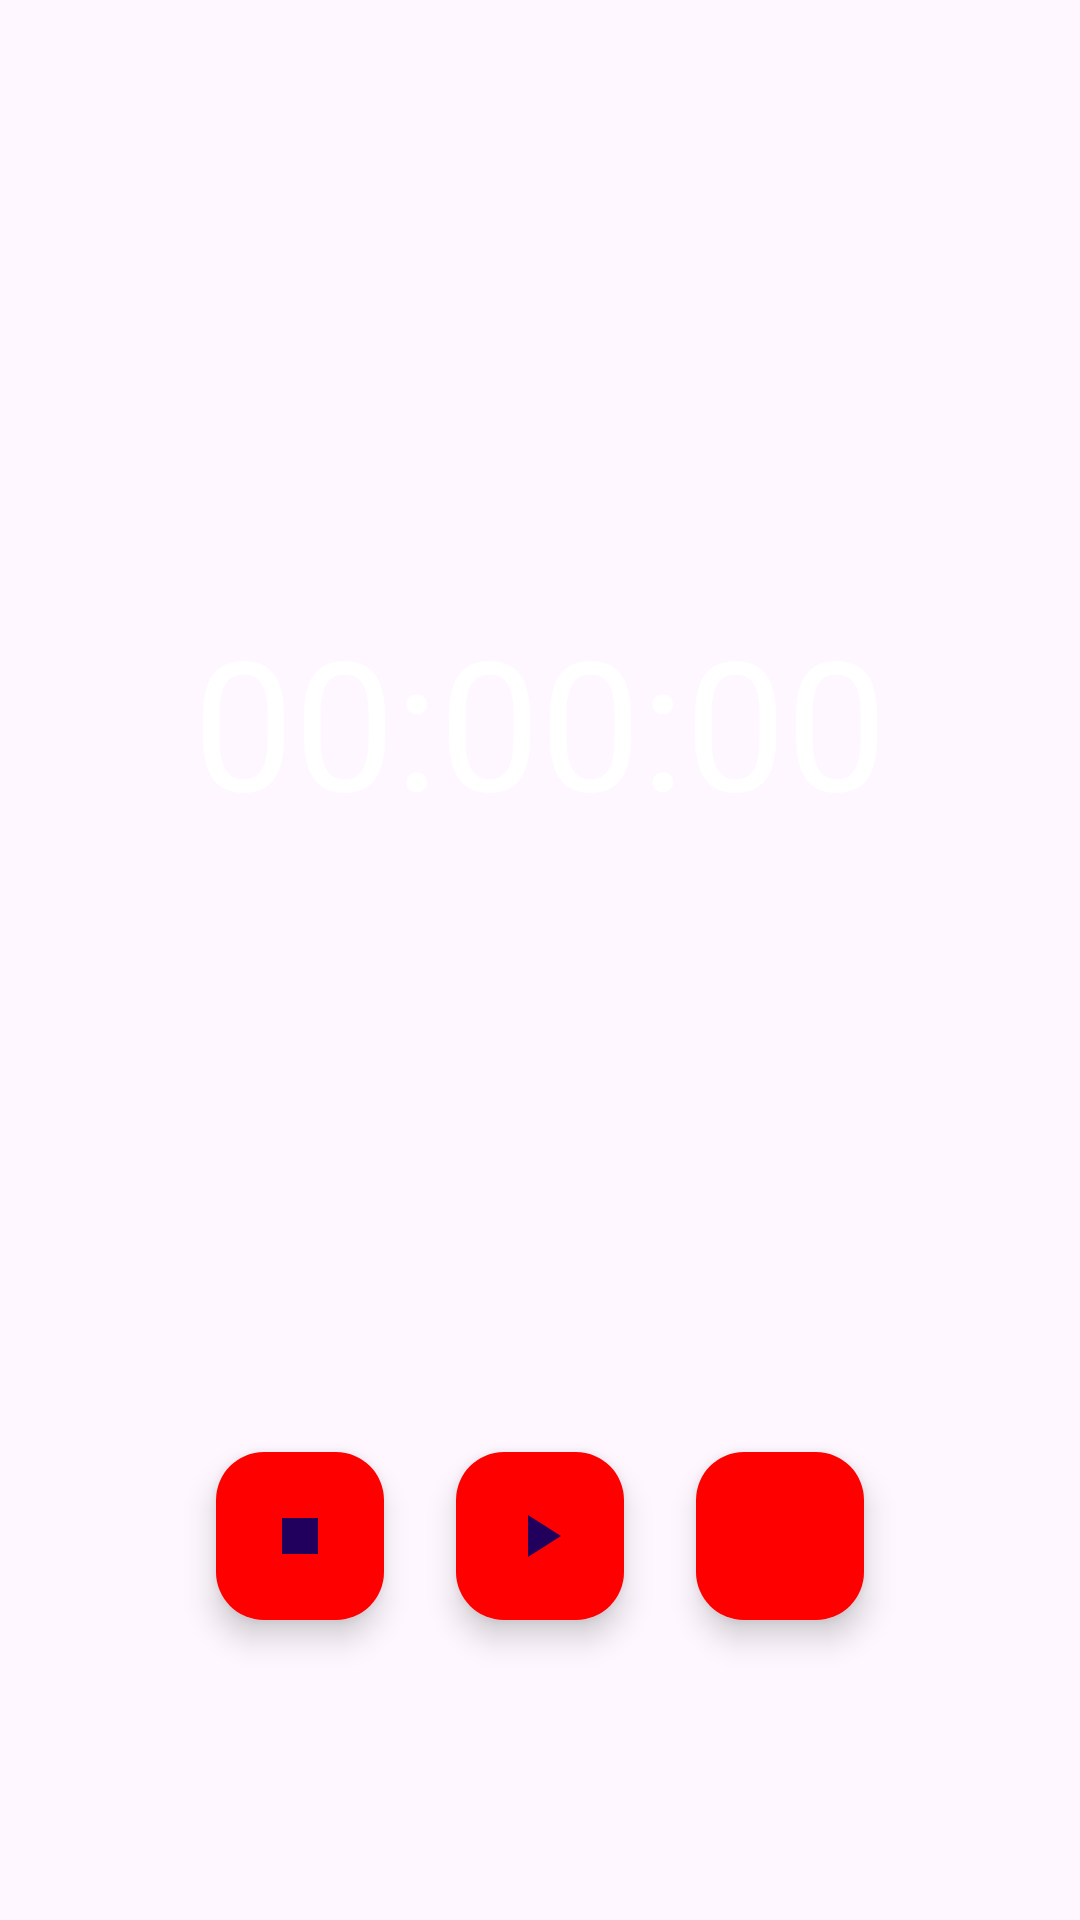

Screen size 1080px×1920px. Icon name, then its center in pixels as (x,y):
play arrow: (540,1536)
stop: (300,1536)
